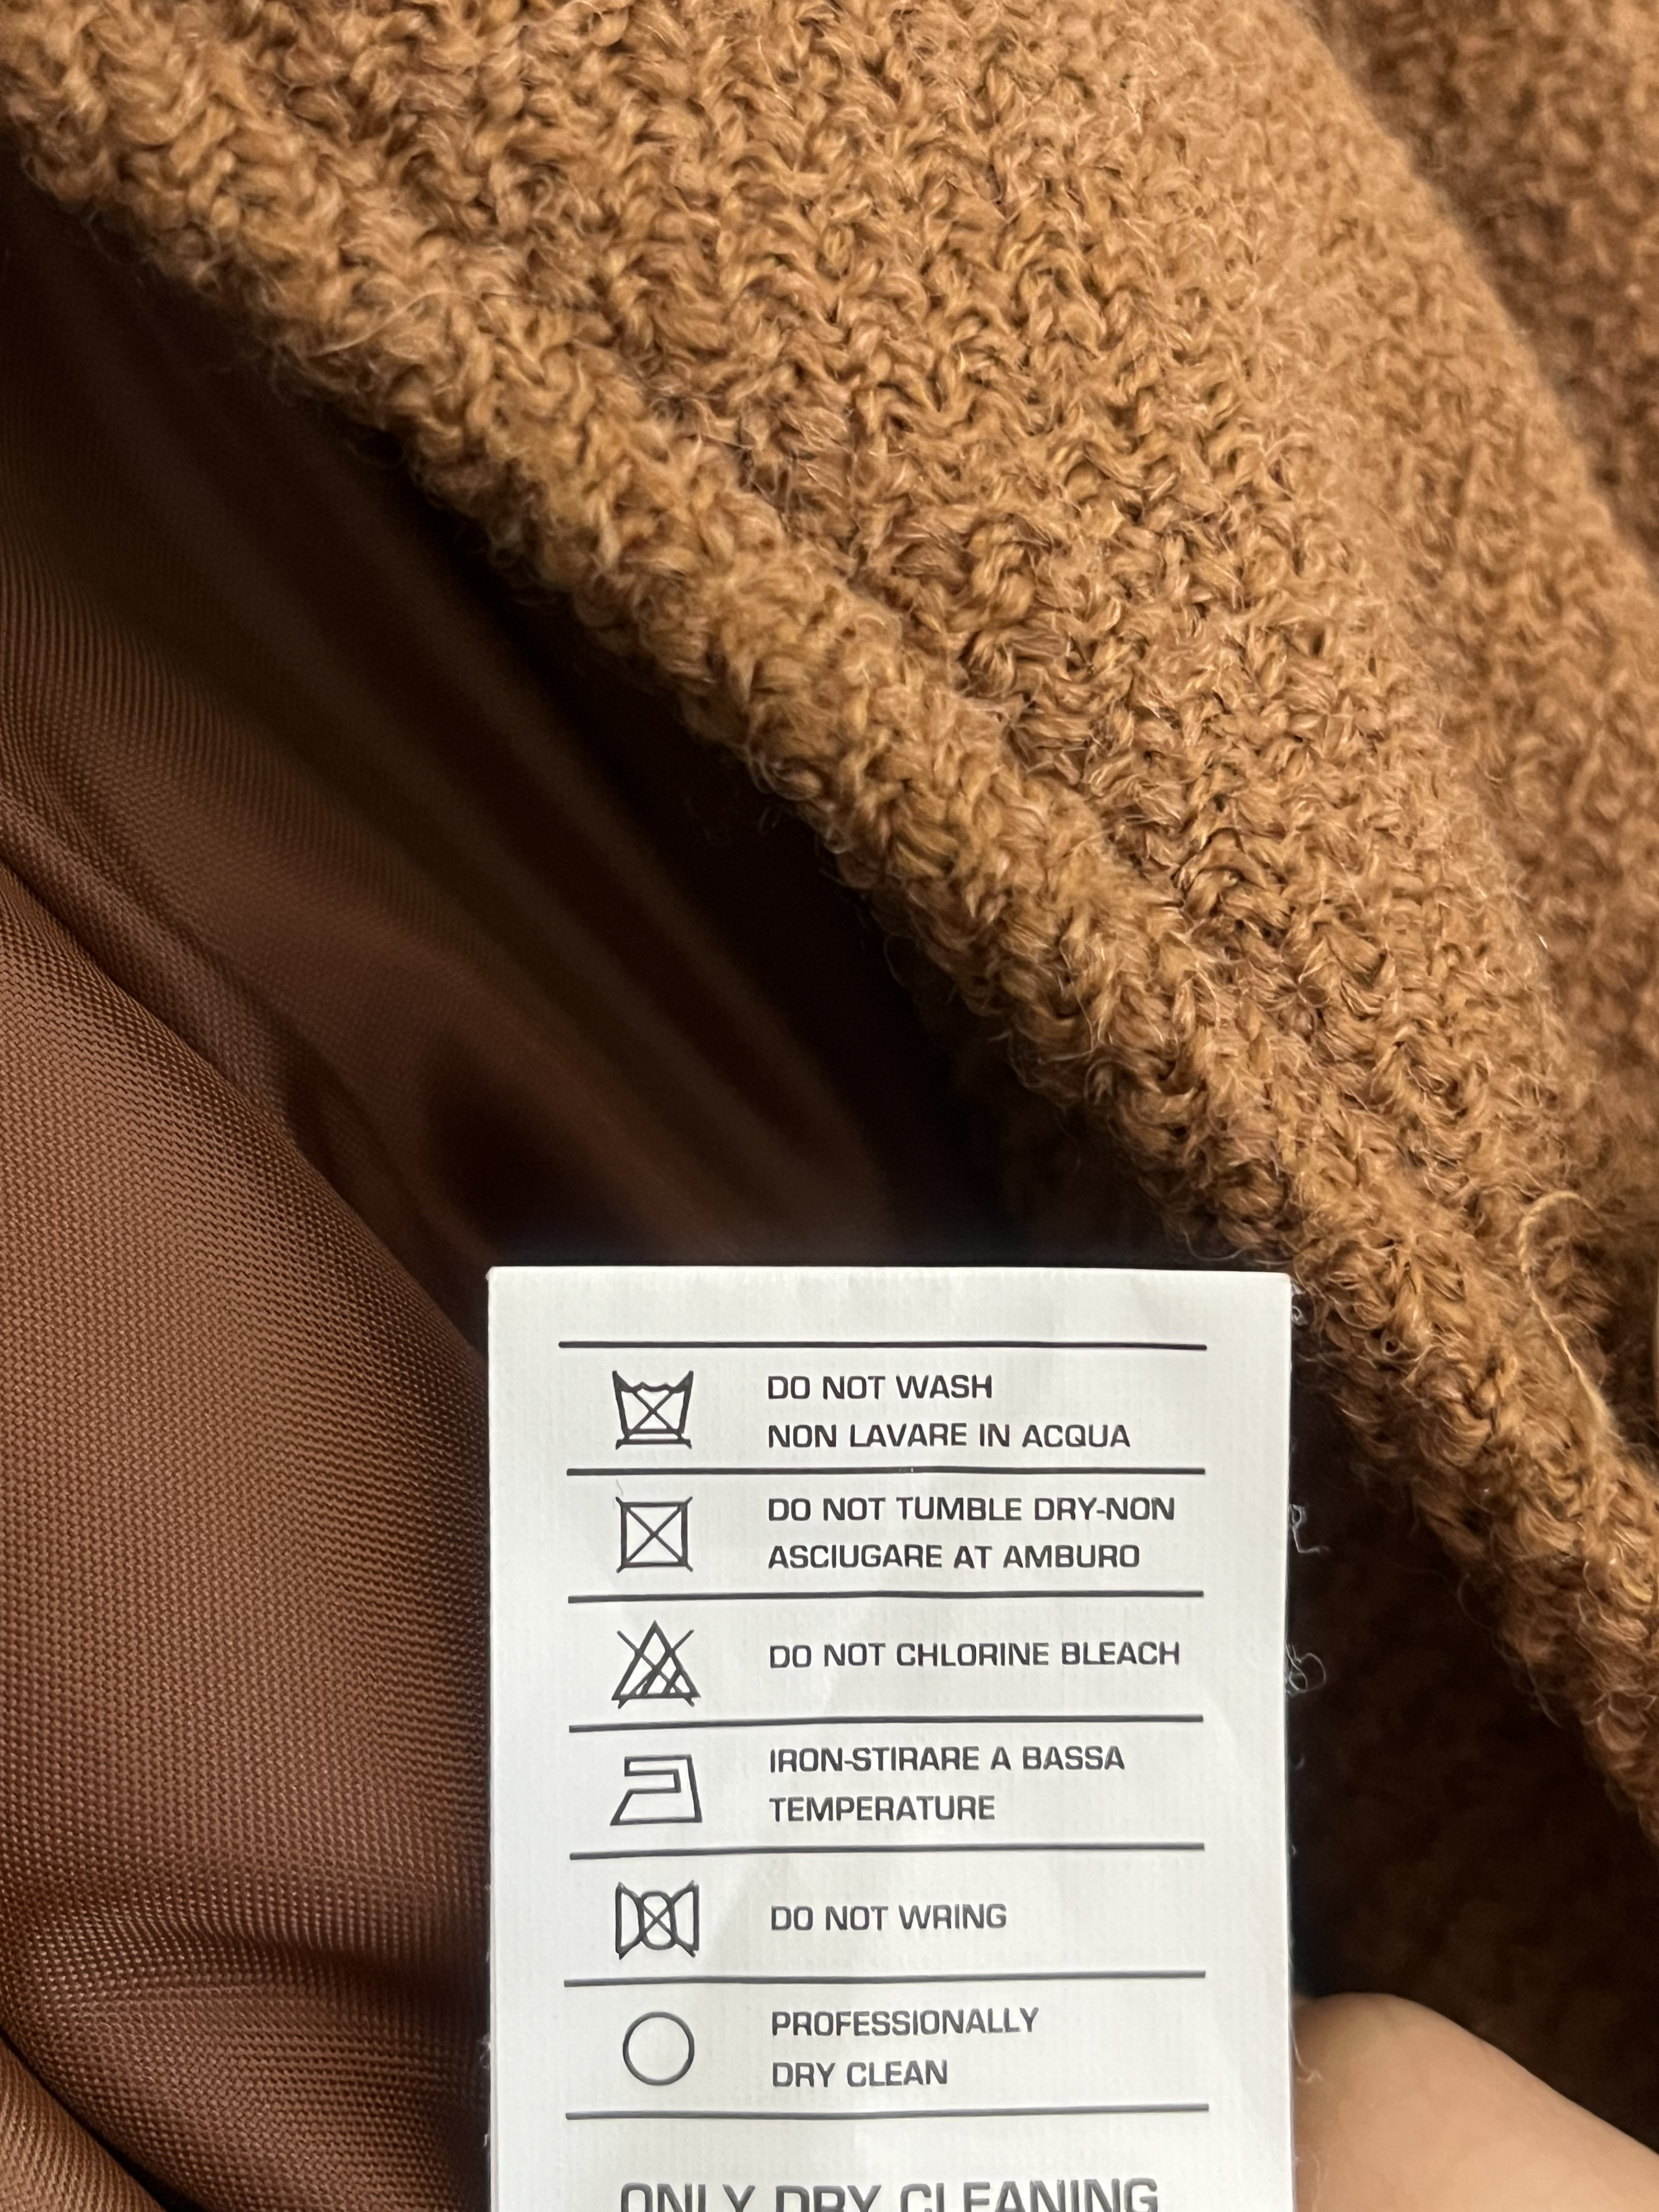DN_bleach: (606, 1611, 709, 1710)
DN_wash: (601, 1357, 708, 1453), (612, 1487, 702, 1578)
DN_wring: (598, 1867, 713, 1968)
dry_clean_any_solvent_except_trichloroethylene: (610, 2001, 706, 2095)
dry_flat: (605, 1738, 713, 1834)
